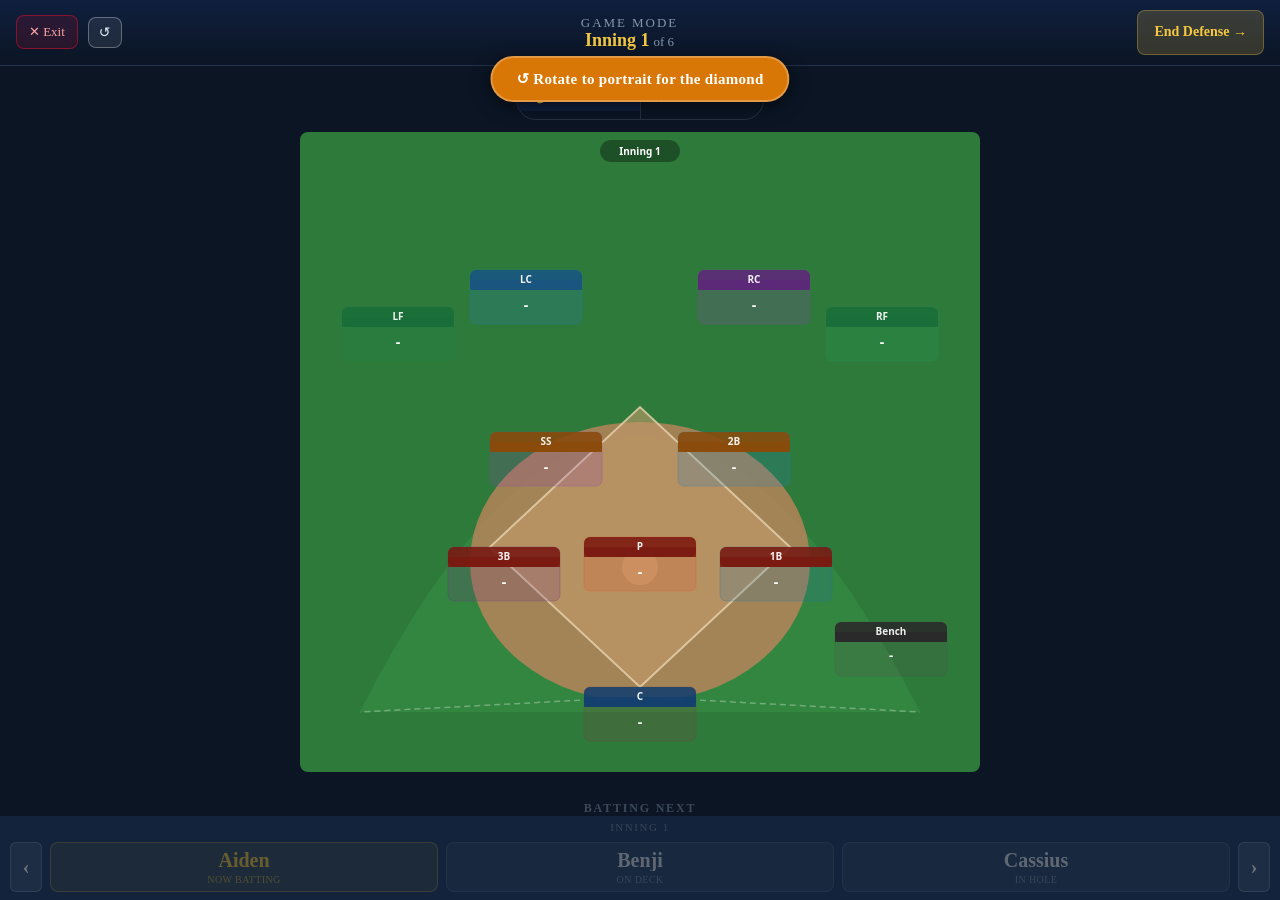
Test case: GameModeScreen — half-completion state machine › clicking the advance button once marks defense done and switches to the batting half
Click the button "End Defense →": {"x": 1201, "y": 32} [1137,10,1264,55]
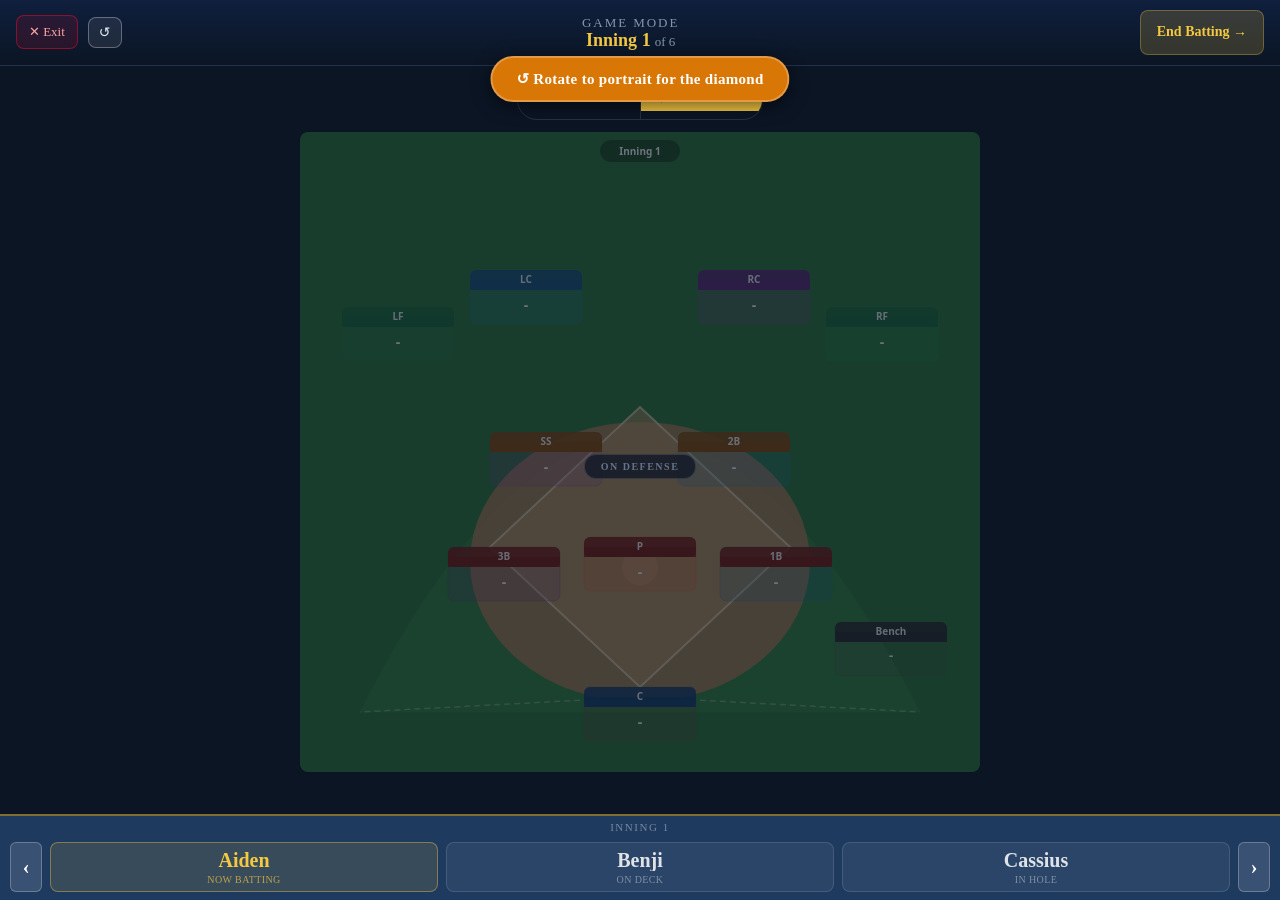
Now the button "End Batting →" is shown, box [1140,10,1264,55]
